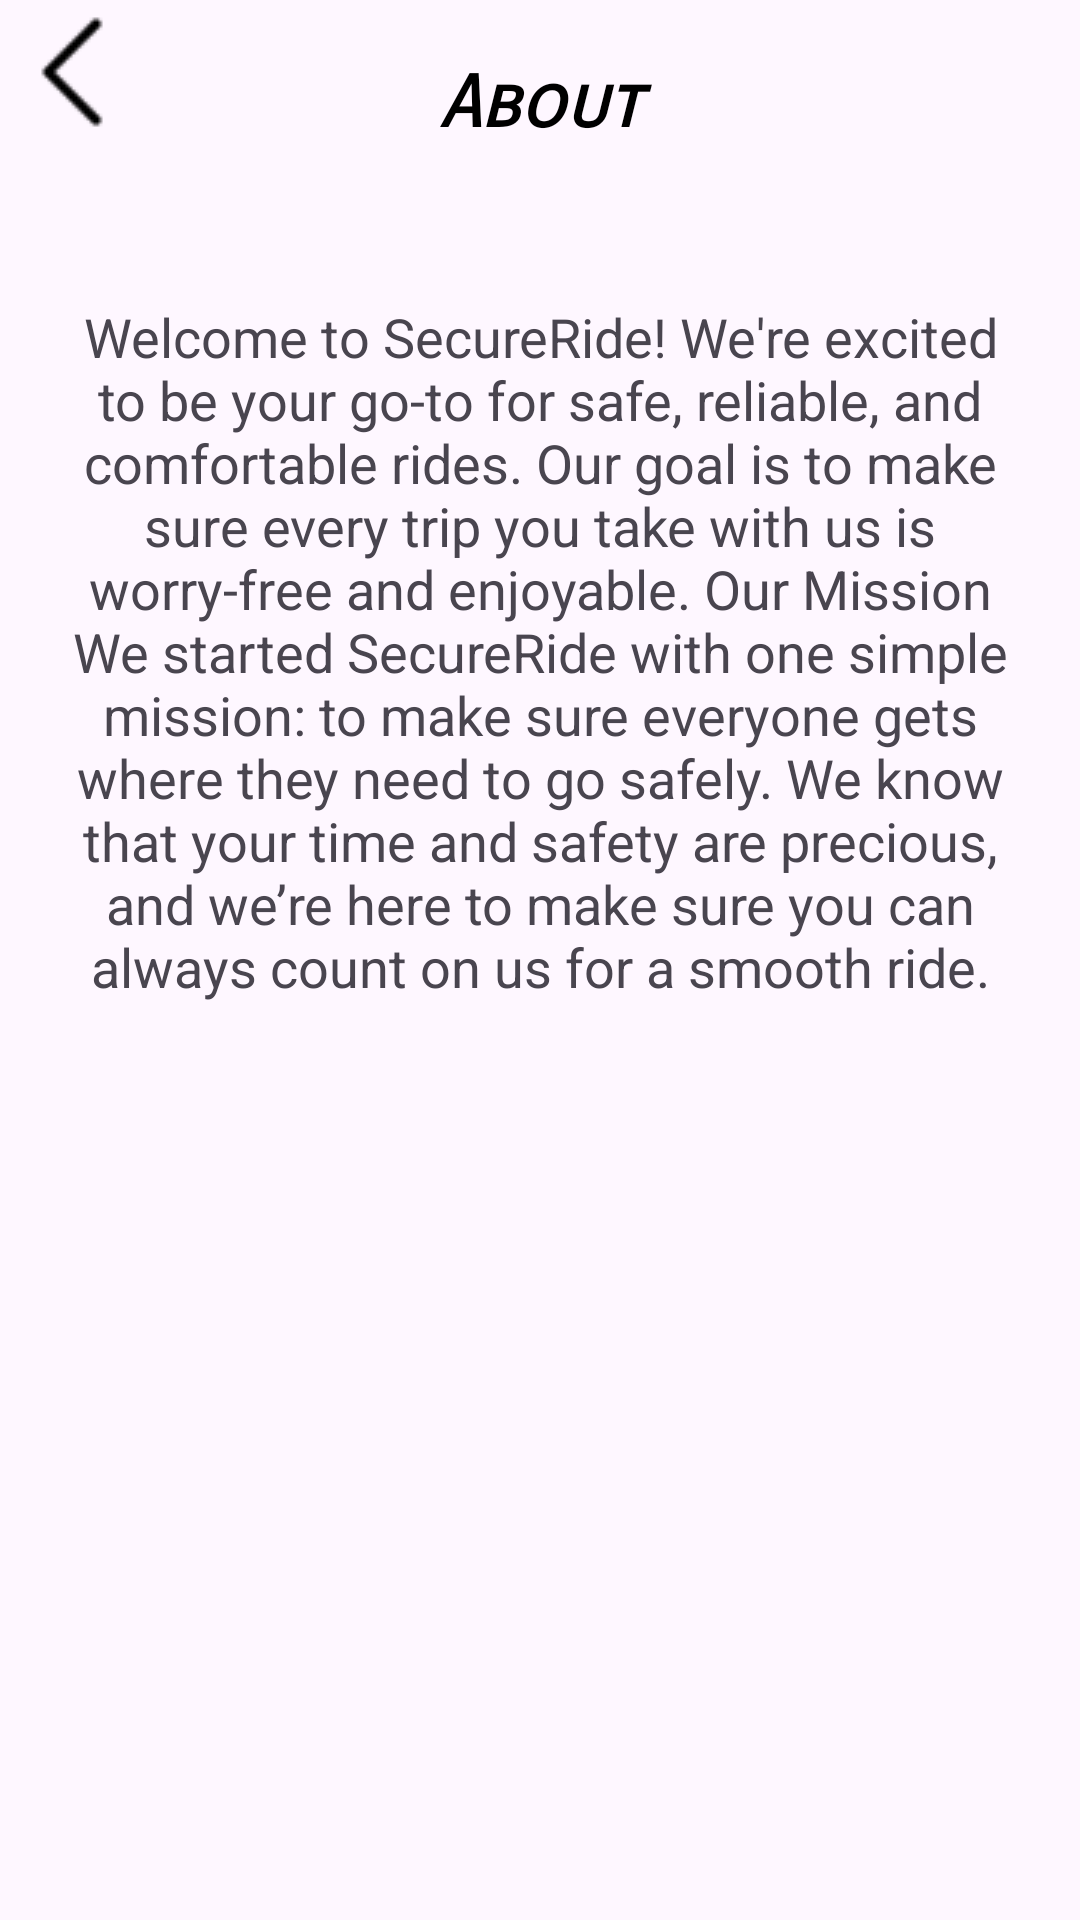

Icon bounding boxes for this 1080x1920 phone screenshot, format (x1, y1, x2, y2):
back: (41, 17, 103, 127)
